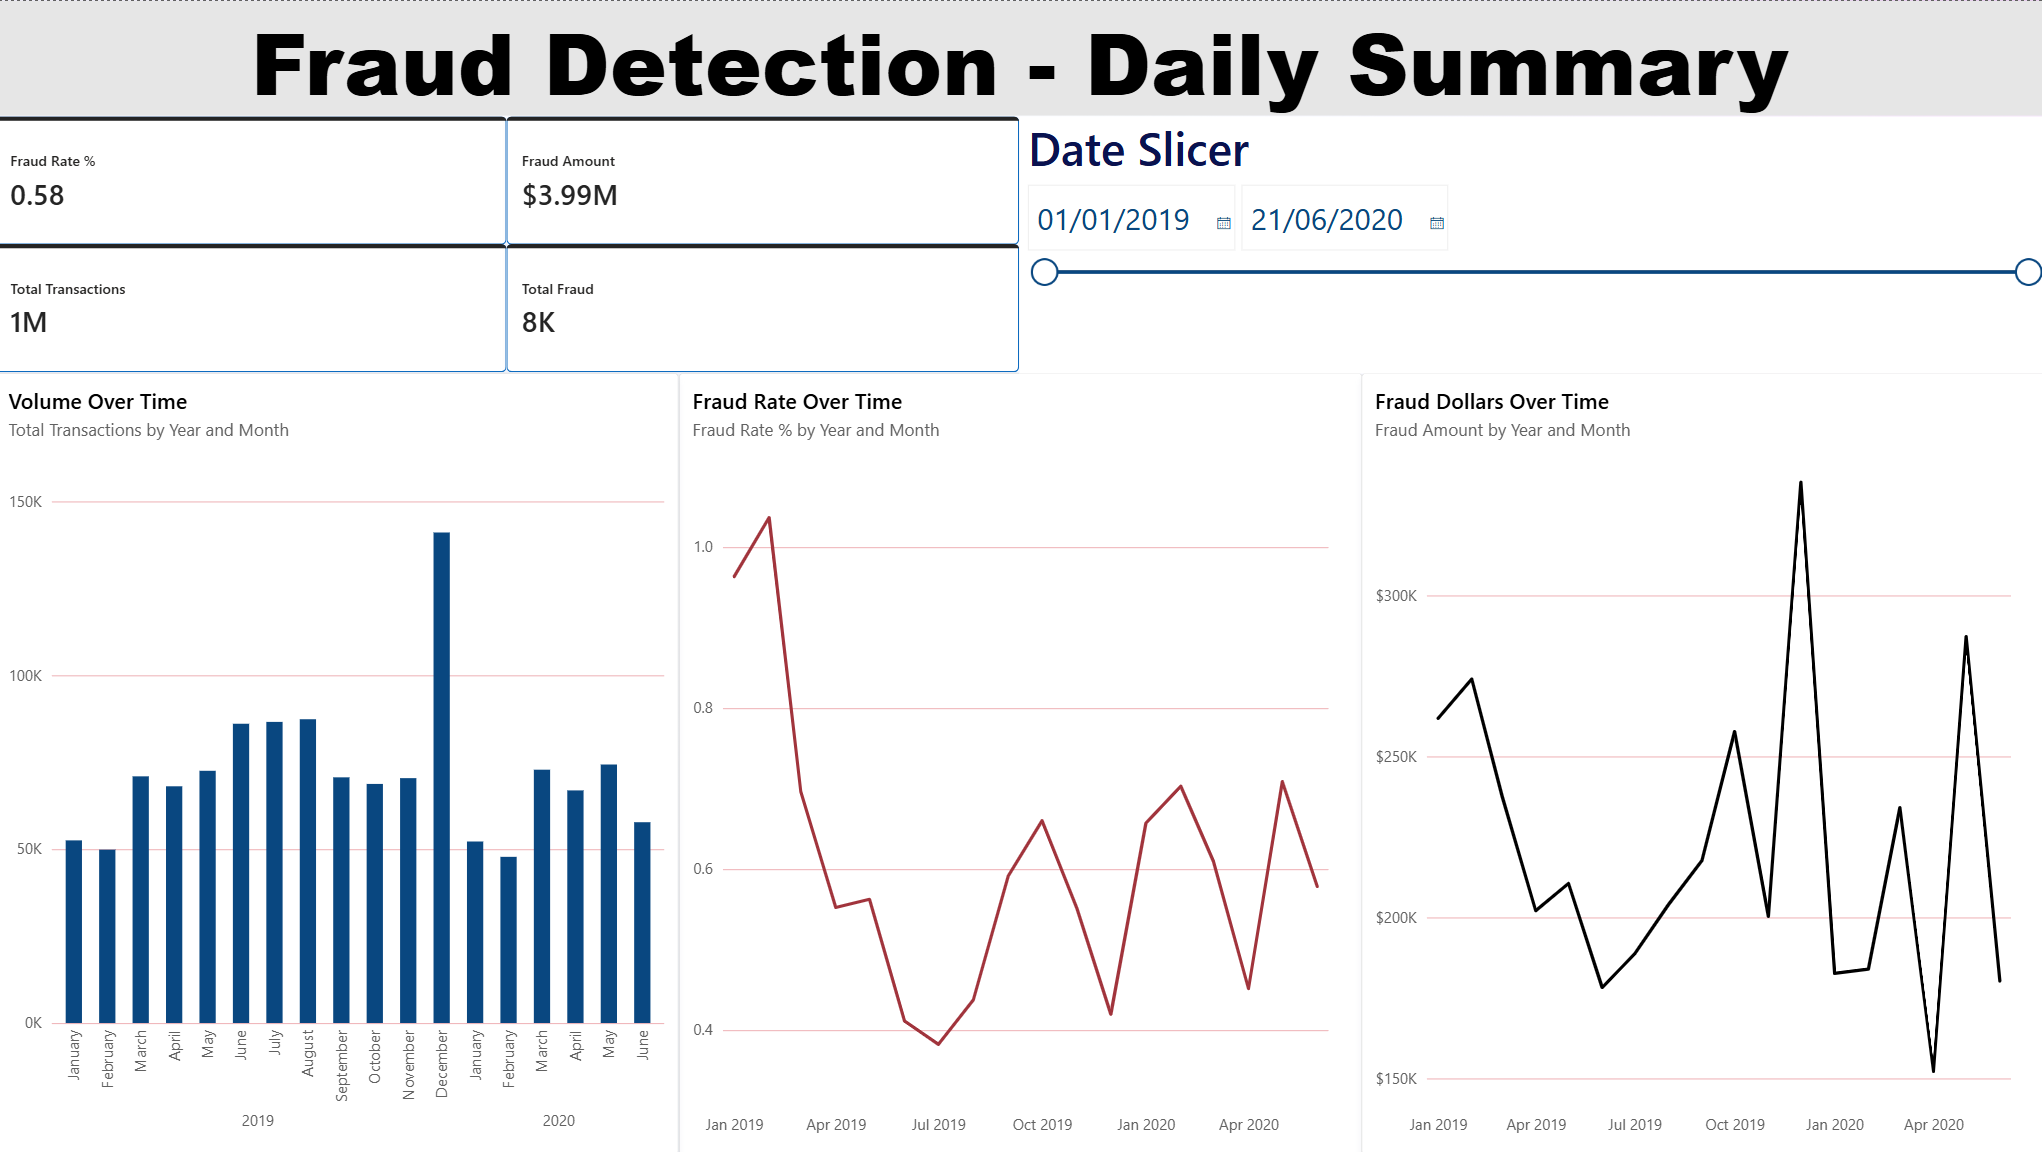

Layout of this report page (visuals, bound fields, positions):
{"tool":"powerbi","page":{"name":"Page 1","canvas":[1920,1080],"ordinal":0},"visuals":[{"type":"cardVisual","fields":{"Data":["daily_fraud_summary.Fraud Rate %"]},"box":[0,108,479,120],"z":0},{"type":"cardVisual","fields":{"Data":["daily_fraud_summary.Total Transactions"]},"box":[0,228,479,120],"z":1000},{"type":"cardVisual","fields":{"Data":["daily_fraud_summary.Fraud Amount"]},"box":[479,108,480,120],"z":2000},{"type":"cardVisual","fields":{"Data":["daily_fraud_summary.Total Fraud"]},"box":[479,228,480,120],"z":3000},{"type":"lineChart","title":"Fraud Rate Over Time","fields":{"Category":["daily_fraud_summary.txn_date.Variation.Date Hierarchy.Year","daily_fraud_summary.txn_date.Variation.Date Hierarchy.Month"],"Y":["daily_fraud_summary.Fraud Rate %"]},"box":[640,348,640,732],"z":4000},{"type":"columnChart","title":"Volume Over Time","fields":{"Category":["daily_fraud_summary.txn_date.Variation.Date Hierarchy.Year","daily_fraud_summary.txn_date.Variation.Date Hierarchy.Month"],"Y":["daily_fraud_summary.Total Transactions"]},"box":[0,348,640,732],"z":5000},{"type":"lineChart","title":"Fraud Dollars Over Time","fields":{"Category":["daily_fraud_summary.txn_date.Variation.Date Hierarchy.Year","daily_fraud_summary.txn_date.Variation.Date Hierarchy.Month"],"Y":["daily_fraud_summary.Fraud Amount"]},"box":[1280,348,640,732],"z":6000},{"type":"textbox","title":"Fraud Detection - Daily Summary","box":[0,0,1919,107],"z":7000},{"type":"slicer","fields":{"Values":["daily_fraud_summary.txn_date"]},"box":[959,108,961,240],"z":7001}]}

Visuals, with their boxes in screenshot pixels (x1, y1, x2, y2), scaled from the page's 1920x1080 canvas onto the 2042x1152 screenshot:
cardVisual - daily_fraud_summary.Fraud Rate %: 0 115 509 243
cardVisual - daily_fraud_summary.Total Transactions: 0 243 509 371
cardVisual - daily_fraud_summary.Fraud Amount: 509 115 1020 243
cardVisual - daily_fraud_summary.Total Fraud: 509 243 1020 371
"Fraud Rate Over Time" lineChart: 681 371 1361 1151
"Volume Over Time" columnChart: 0 371 681 1151
"Fraud Dollars Over Time" lineChart: 1361 371 2041 1151
"Fraud Detection - Daily Summary" textbox: 0 0 2041 114
slicer - daily_fraud_summary.txn_date: 1020 115 2041 371
